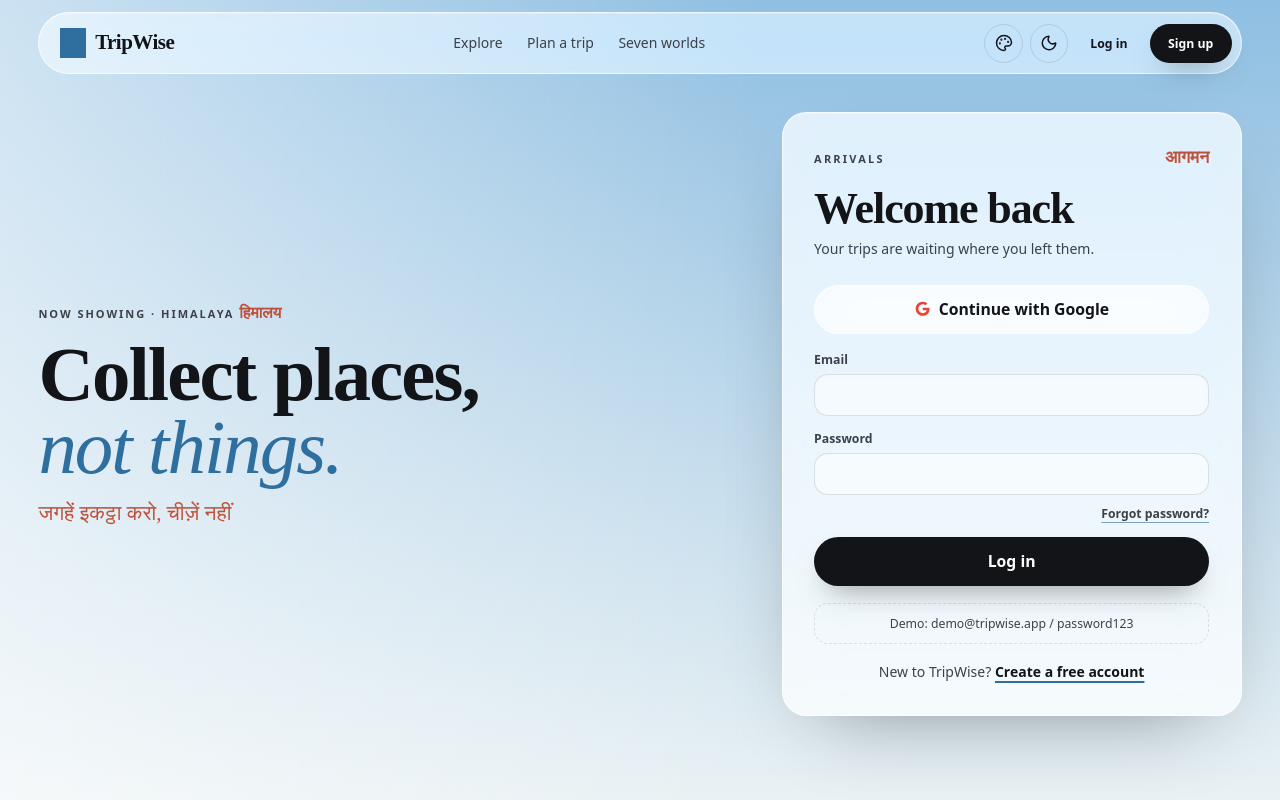
Test: forgot and reset password › can be reached from the login page and never says whether an email exists
Click the link "Forgot password?" at x=1155, y=514, box [1101, 505, 1209, 522]
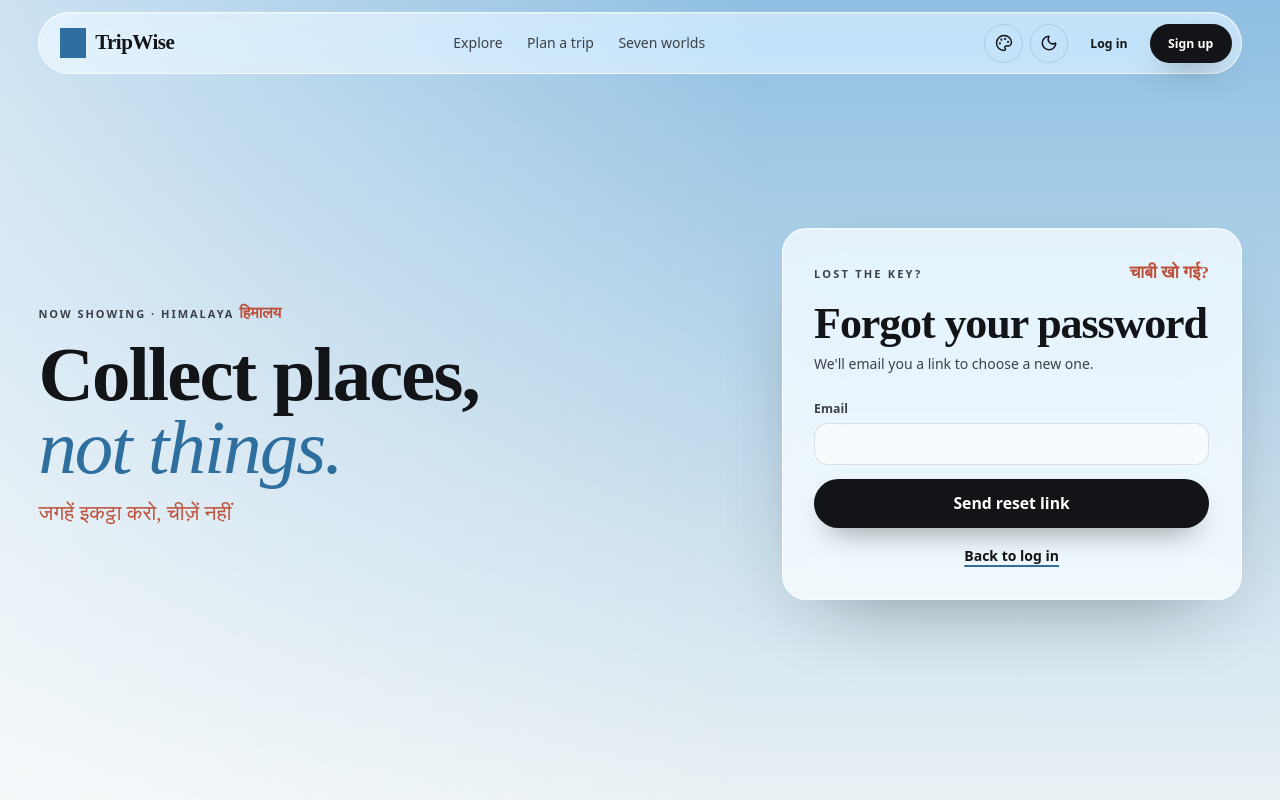
Expected: the heading "Forgot your password" is shown, [814, 302, 1209, 346]
Type "someone@example.com" into the field labelled "Email" at x=1012, y=444, box [814, 423, 1209, 465]
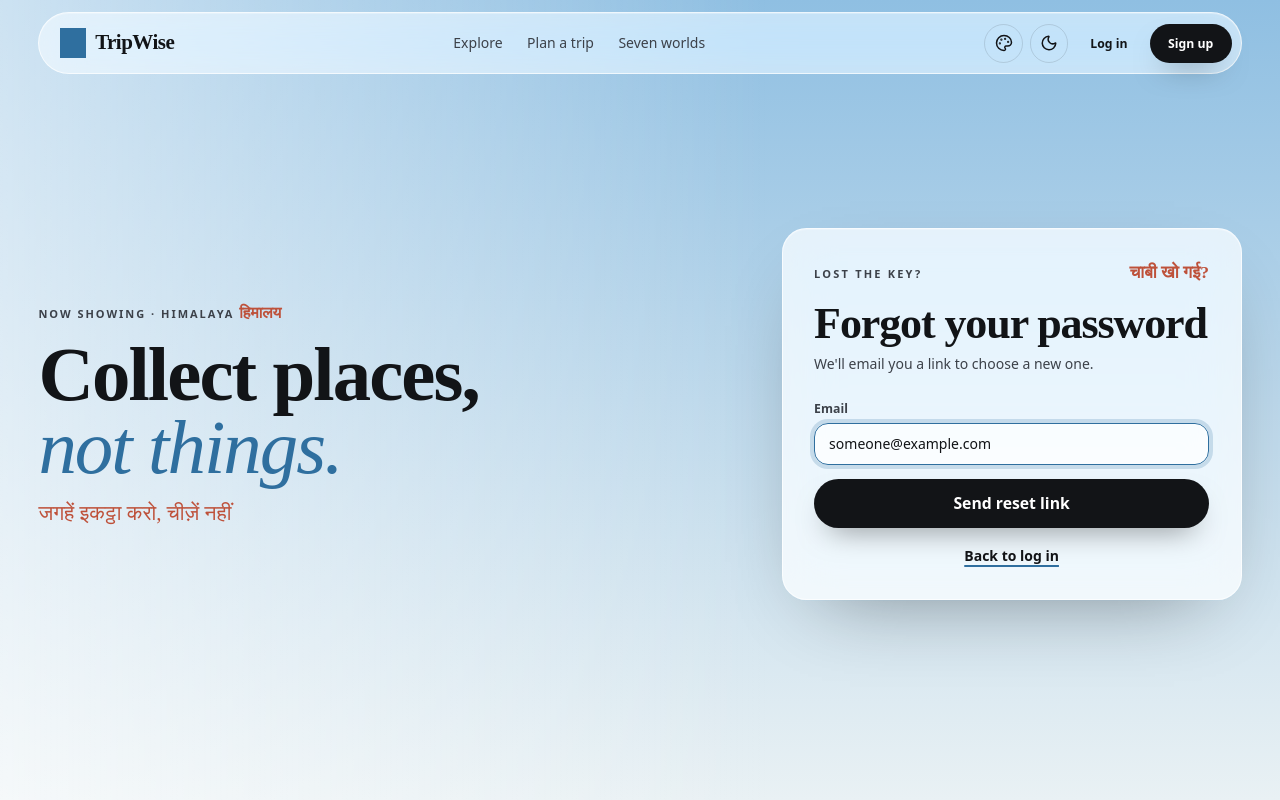
Click the button "Send reset link" at x=1012, y=503, box [814, 479, 1209, 528]
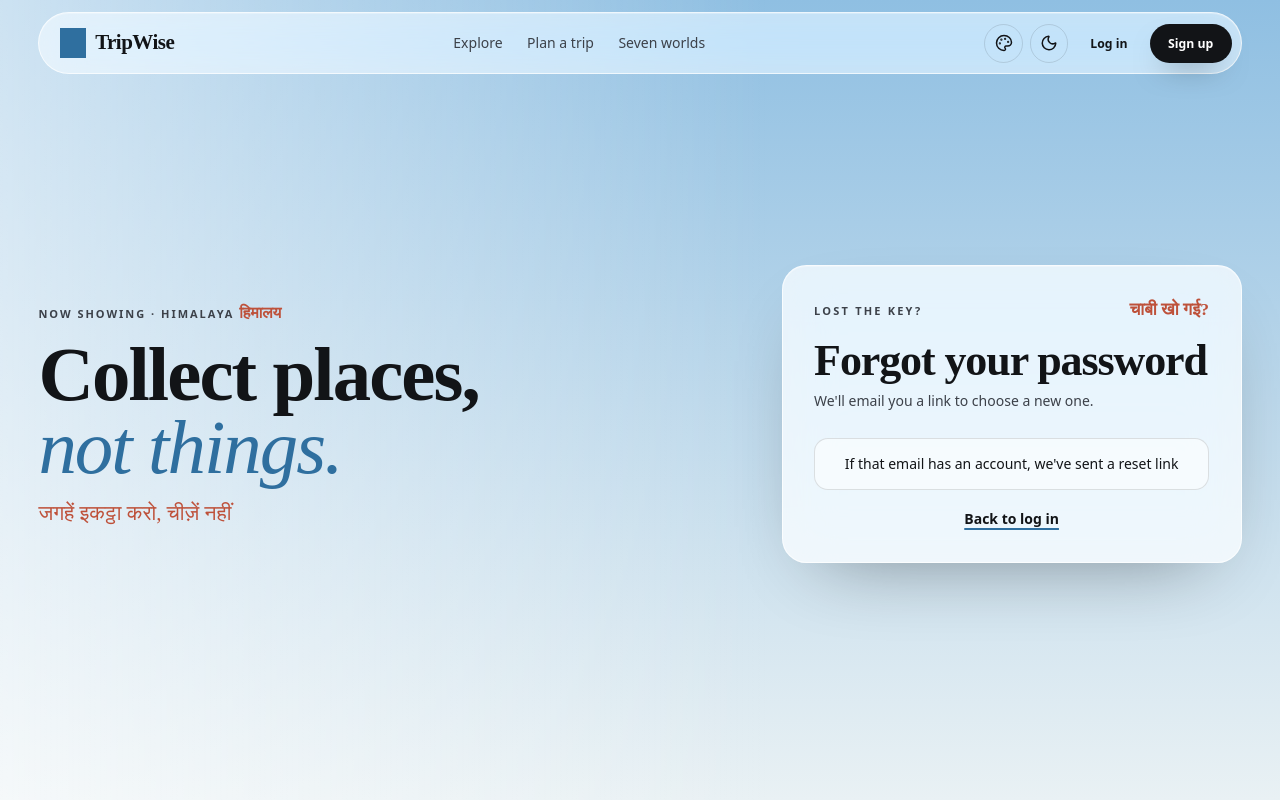
Expected: the text "If that email has an account, we've sent a reset link" is shown, [814, 438, 1209, 490]
